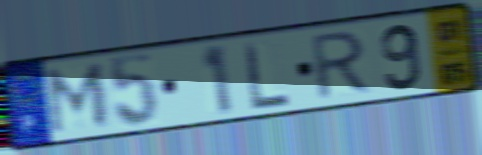1: (200, 42, 235, 118)
5: (103, 50, 163, 130)
9: (380, 22, 423, 91)
L: (241, 38, 293, 113)
M: (45, 61, 111, 137)
R: (309, 27, 374, 104)
